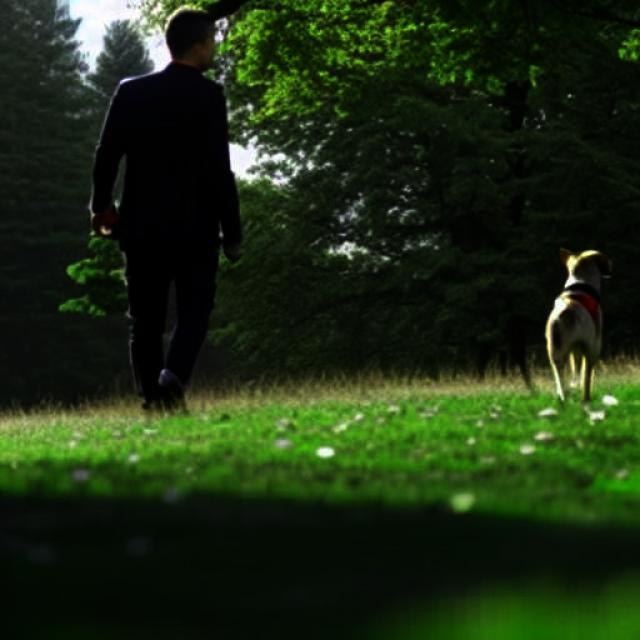Unleashed_Dog: (156, 244, 612, 409)
